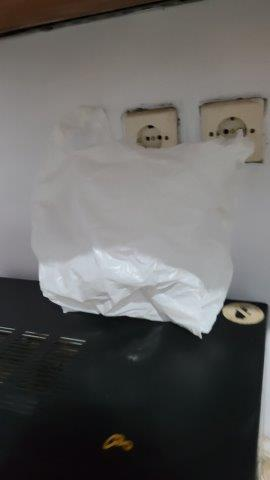plastik: (33, 104, 253, 330)
